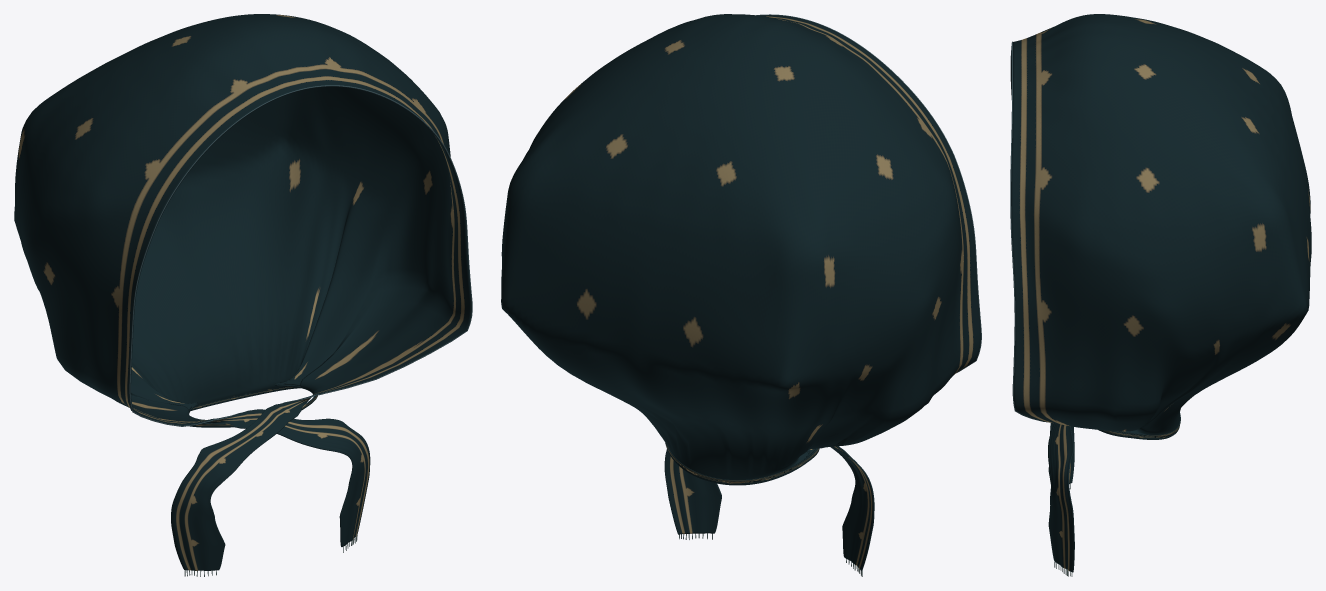
The model's file is Masculine-flow-shirtless-pashmina249-headgear.glb.
3 renders of one model, left to right at view 1: azimuth 30°, elevation 25°; view 2: azimuth 150°, elevation 25°; view 3: azimuth 270°, elevation 25°, orthographic. The views are drawn at different scales.
Visible parts, largest first — view 1: 226 headgear / Headwear / continuous woven pashmina239, 226 headgear / Headwear / face edge239; view 2: 226 headgear / Headwear / continuous woven pashmina239, 226 headgear / Headwear / face edge239; view 3: 226 headgear / Headwear / continuous woven pashmina239, 226 headgear / Headwear / face edge239.
Part boxes in pixels (box(x1,y1,x2,y2)): 226 headgear / Headwear / continuous woven pashmina239: box(14, 14, 471, 570); 226 headgear / Headwear / face edge239: box(129, 85, 472, 426); 226 headgear / Headwear / continuous woven pashmina239: box(501, 14, 980, 570); 226 headgear / Headwear / face edge239: box(756, 14, 981, 372); 226 headgear / Headwear / continuous woven pashmina239: box(1011, 14, 1311, 572); 226 headgear / Headwear / face edge239: box(1010, 41, 1046, 422).
Size of the model in its own units: 1.12 by 1.44 by 0.7747.
3 materials, 1 textured.
